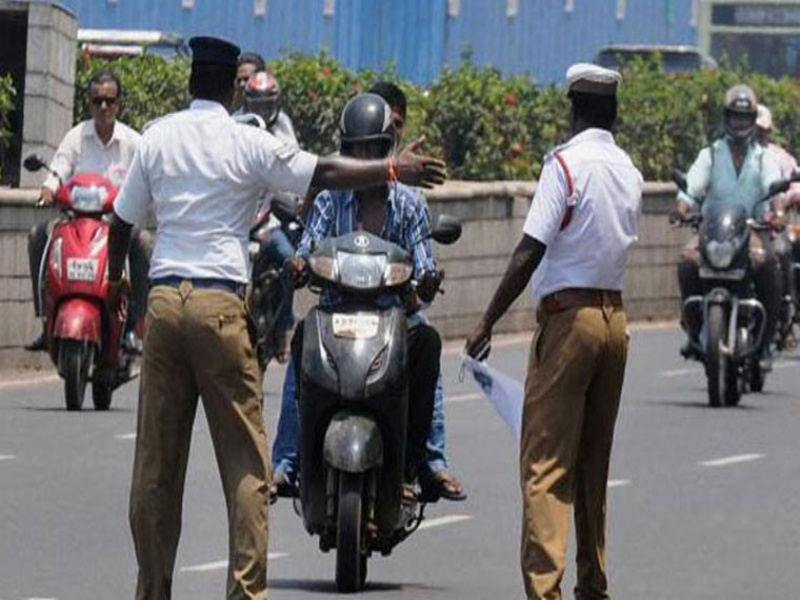helmet: (320, 88, 401, 159), (717, 81, 760, 145), (238, 69, 285, 125)
